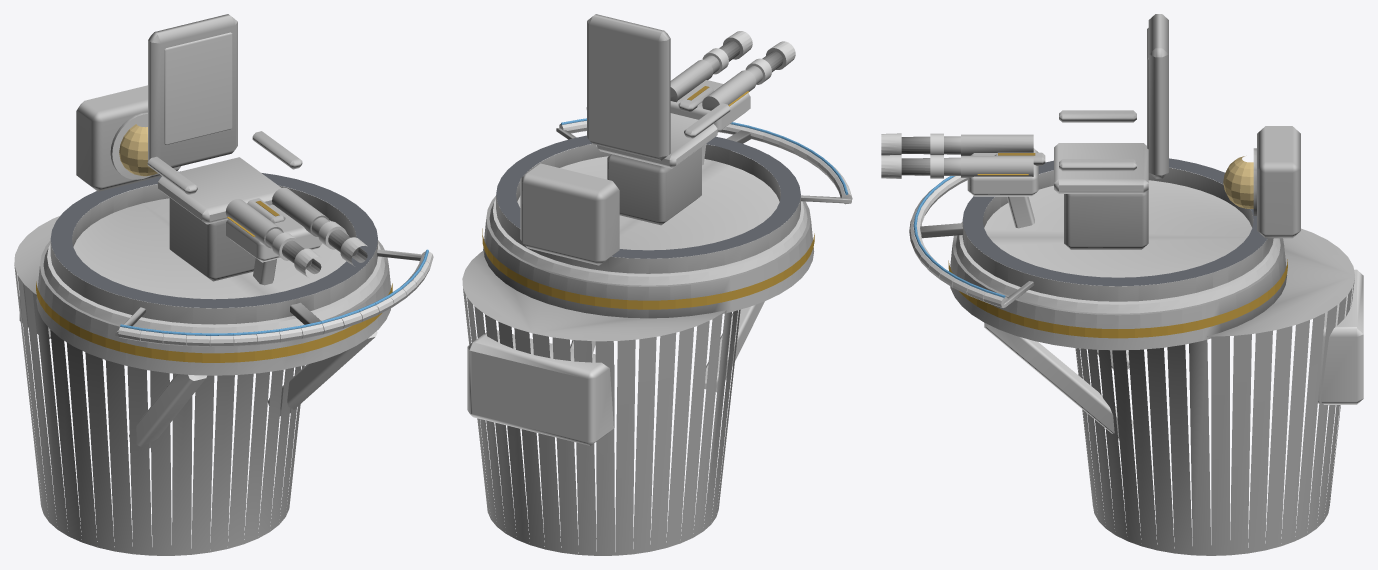
Rendered from kanzel_0.glb.
3 renders of one model, left to right at view 1: azimuth 30°, elevation 25°; view 2: azimuth 150°, elevation 25°; view 3: azimuth 270°, elevation 25°, orthographic. The views are drawn at different scales.
Visible parts, largest first — view 1: Rumpf, Drehring, Geschuetz, Ladung, Kern; view 2: Rumpf, Drehring, Geschuetz, Ladung; view 3: Rumpf, Drehring, Geschuetz, Ladung, Kern.
Boxes of the visible parts, box(x1,y1,x2,y2) form: Rumpf: box(14, 198, 390, 555); Drehring: box(50, 14, 433, 346); Geschuetz: box(225, 187, 367, 277); Ladung: box(36, 281, 392, 362); Kern: box(119, 124, 157, 176); Rumpf: box(462, 156, 814, 555); Drehring: box(496, 14, 852, 273); Geschuetz: box(670, 31, 795, 132); Ladung: box(482, 228, 814, 309); Rumpf: box(950, 180, 1363, 555); Drehring: box(909, 14, 1300, 307); Geschuetz: box(881, 133, 1045, 196); Ladung: box(948, 259, 1287, 338); Kern: box(1223, 156, 1253, 208).
Size of the model in its own units: 2.06 by 3.1 by 2.85.
